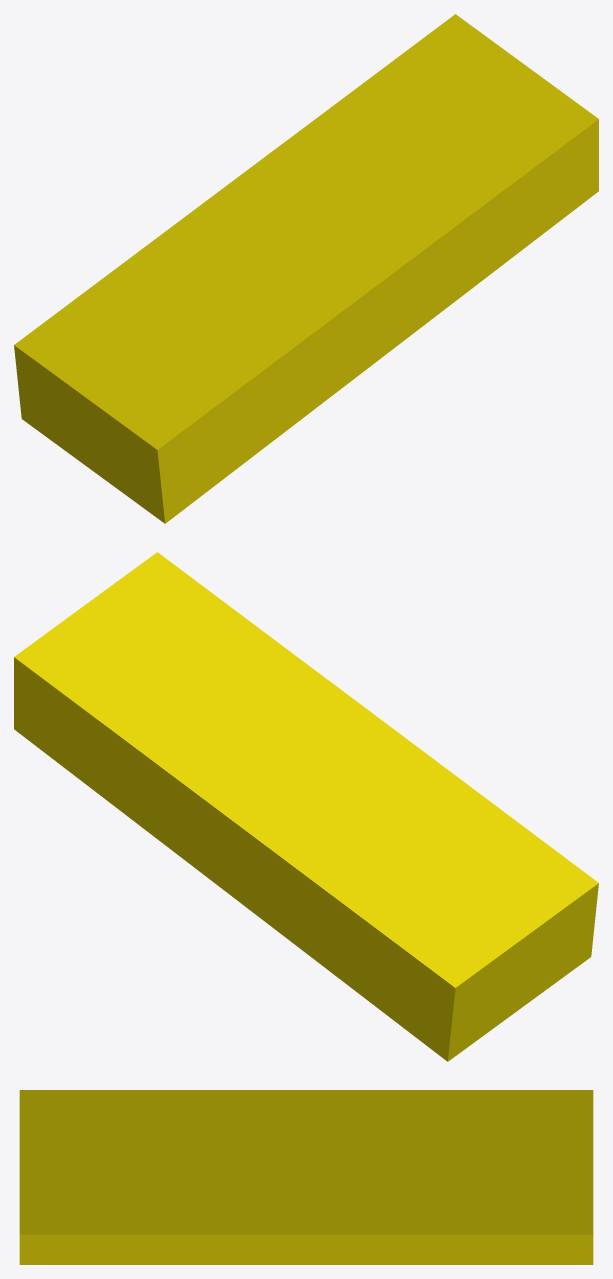
File: Bastion_Stair_02_Lod1.fbx
The picture shows the model from 3 angles, top to bottom: view 1: azimuth 30°, elevation 25°; view 2: azimuth 150°, elevation 25°; view 3: azimuth 270°, elevation 25°; orthographic projection. The views are drawn at different scales.
Visible parts, largest first — view 1: Bastion_Stair_02_Lod1; view 2: Bastion_Stair_02_Lod1; view 3: Bastion_Stair_02_Lod1.
Boxes of the visible parts, bbox=[...] form: Bastion_Stair_02_Lod1: bbox=[14, 14, 598, 523]; Bastion_Stair_02_Lod1: bbox=[14, 552, 598, 1061]; Bastion_Stair_02_Lod1: bbox=[19, 1090, 593, 1264].
Bounding box in the file's own units: 313 × 202 × 176.
